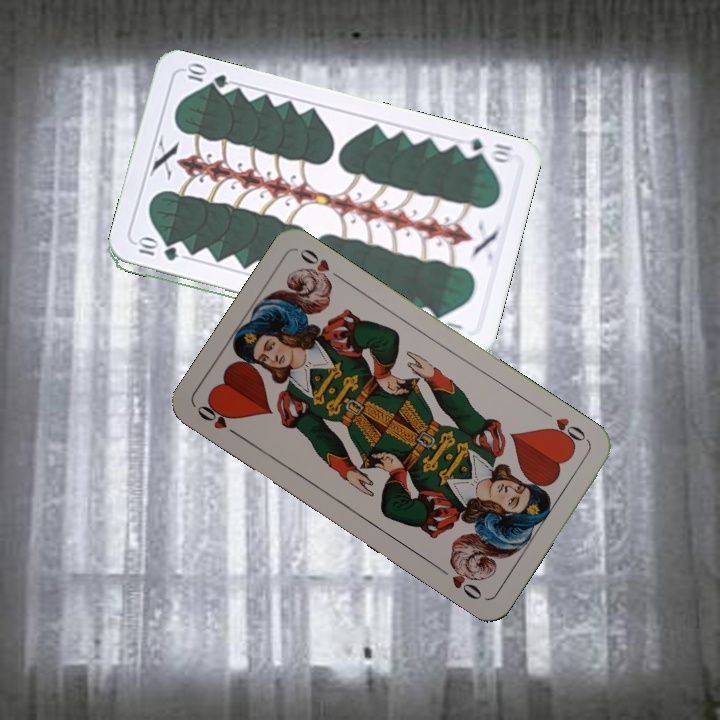G10: (456, 134, 514, 166), (132, 238, 181, 264)
HO: (192, 398, 245, 442), (538, 406, 590, 449)
